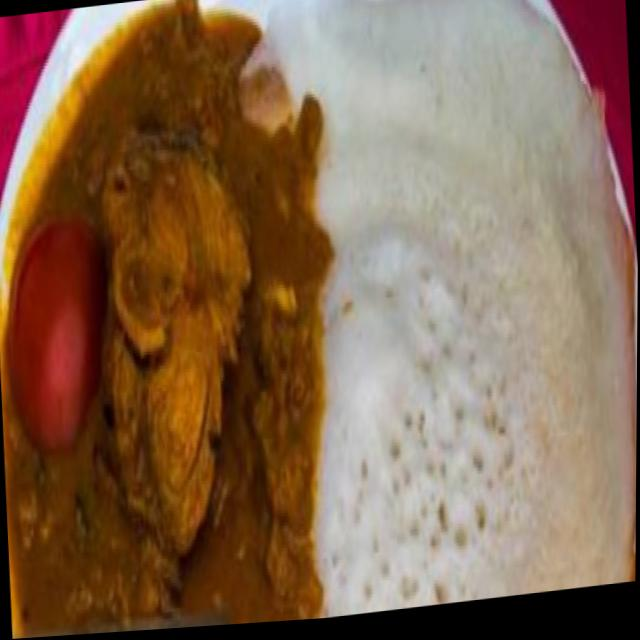AAPAM: (249, 0, 636, 615)
CURRY: (1, 0, 334, 625)
